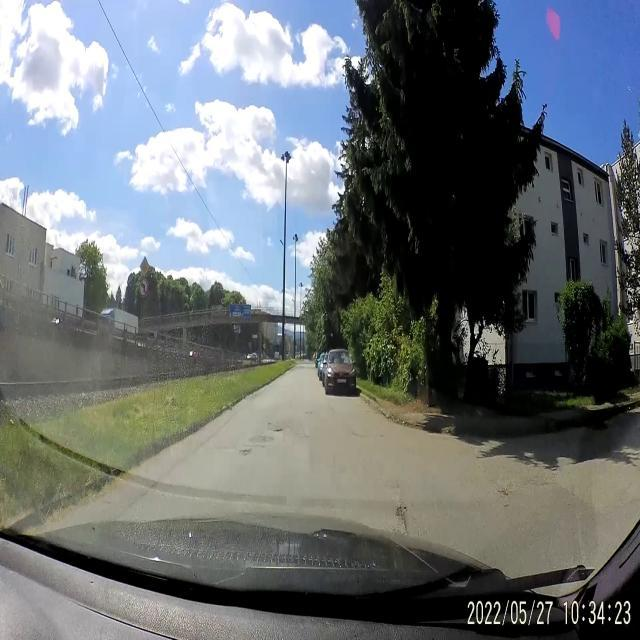Manhole: (247, 431, 276, 447)
Pothole: (394, 495, 408, 533), (236, 444, 252, 462), (268, 422, 286, 434)
